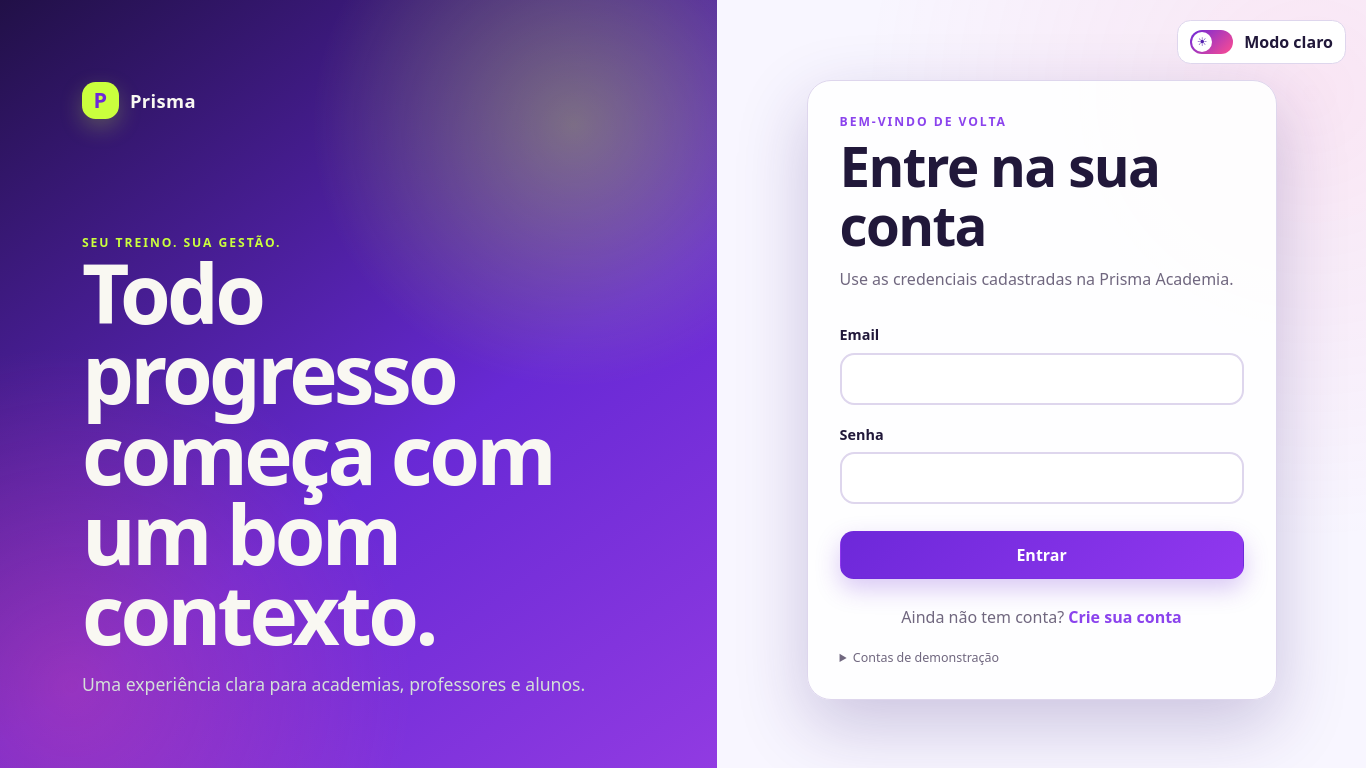
Test case: LoginPage › associa erros de validação aos campos
The image size is (1366, 768).
Click the button "Entrar" at (1042, 555), box left=840, top=531, right=1244, bottom=579
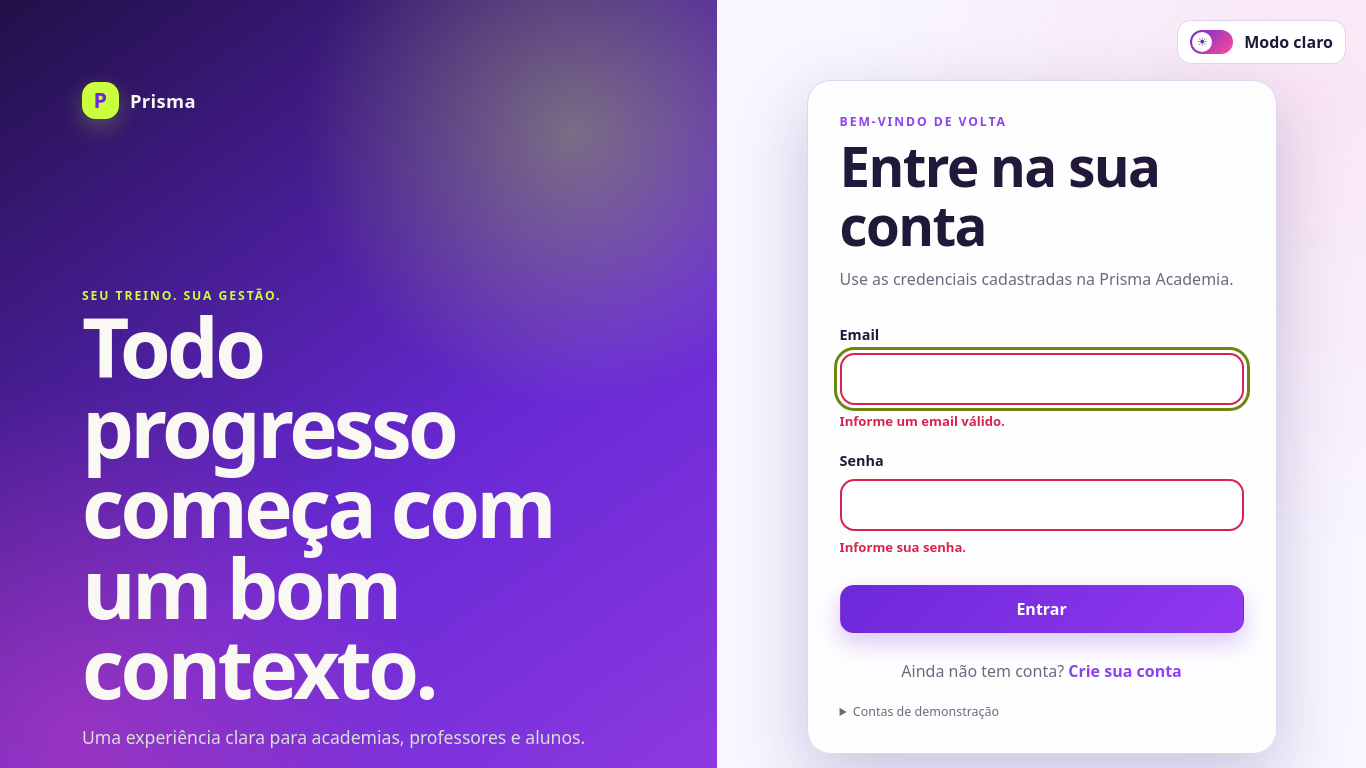
Check: the text "Informe um email válido." is shown, box left=840, top=412, right=1005, bottom=430
Check: the text "Informe sua senha." is shown, box left=840, top=538, right=966, bottom=556
